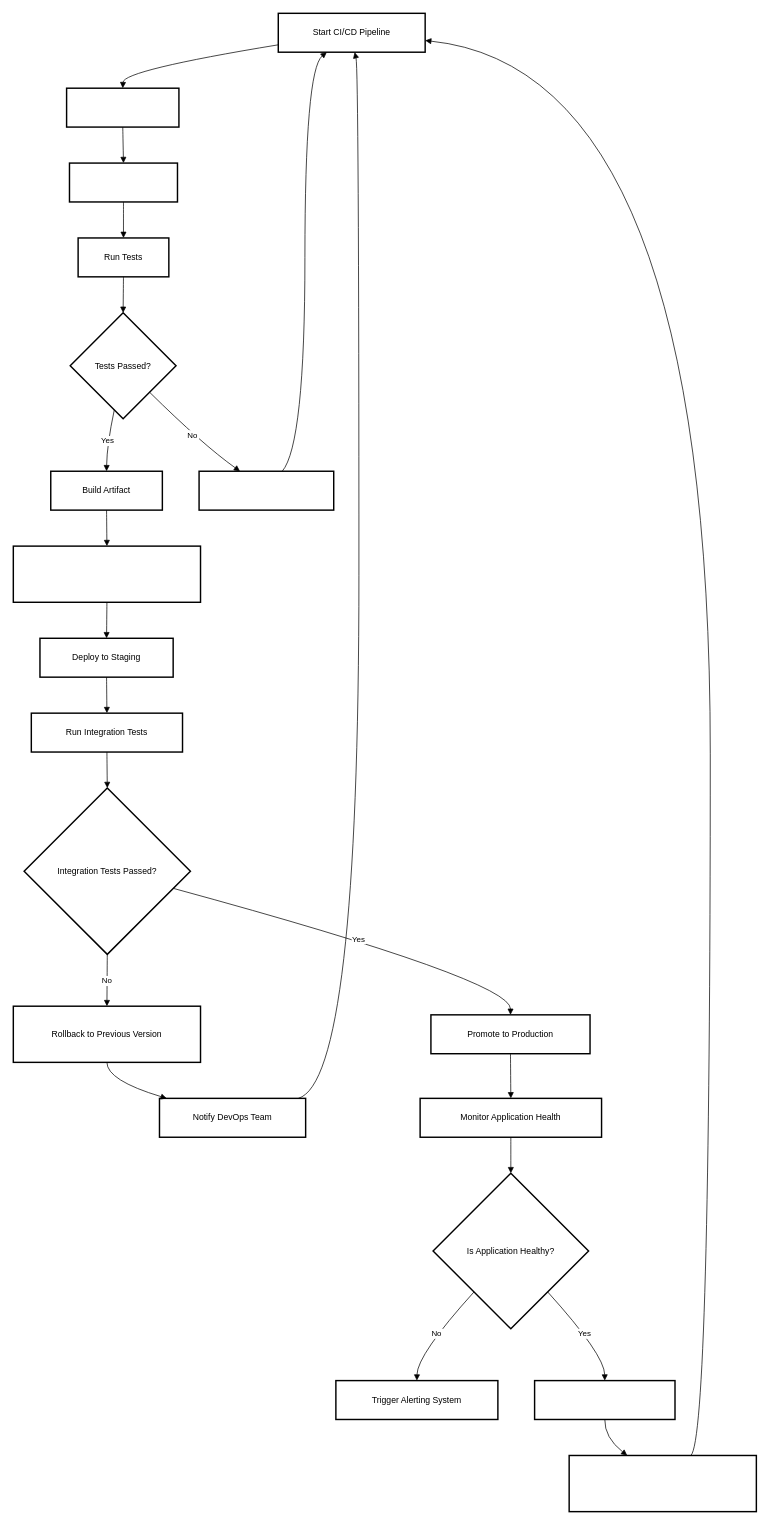
Some shapes in this 769 by 1524 pixel diagram are drawn without their labels. The shapes that lost their labels are listed below. From the top down, each one's centre as x and y in pixels, then its label:
At [122,107]: "Code Commit".
At [123,182]: "Trigger Build".
At [266,490]: "Notify Developers".
At [106,574]: "Upload Artifact to Repository".
At [604,1400]: "End CI/CD Pipeline".
At [662,1483]: "Feedback Loop to Developers".
